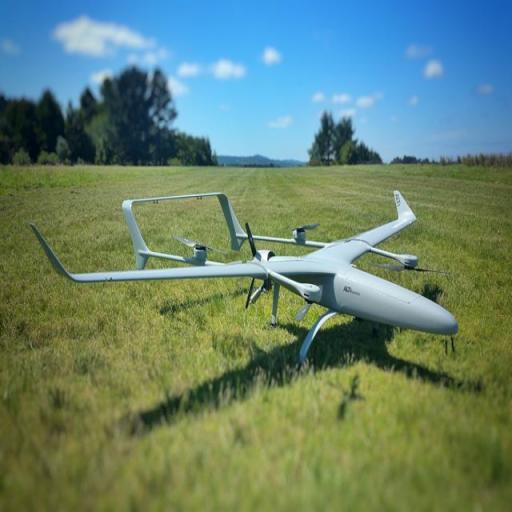uav: (24, 180, 464, 388)
